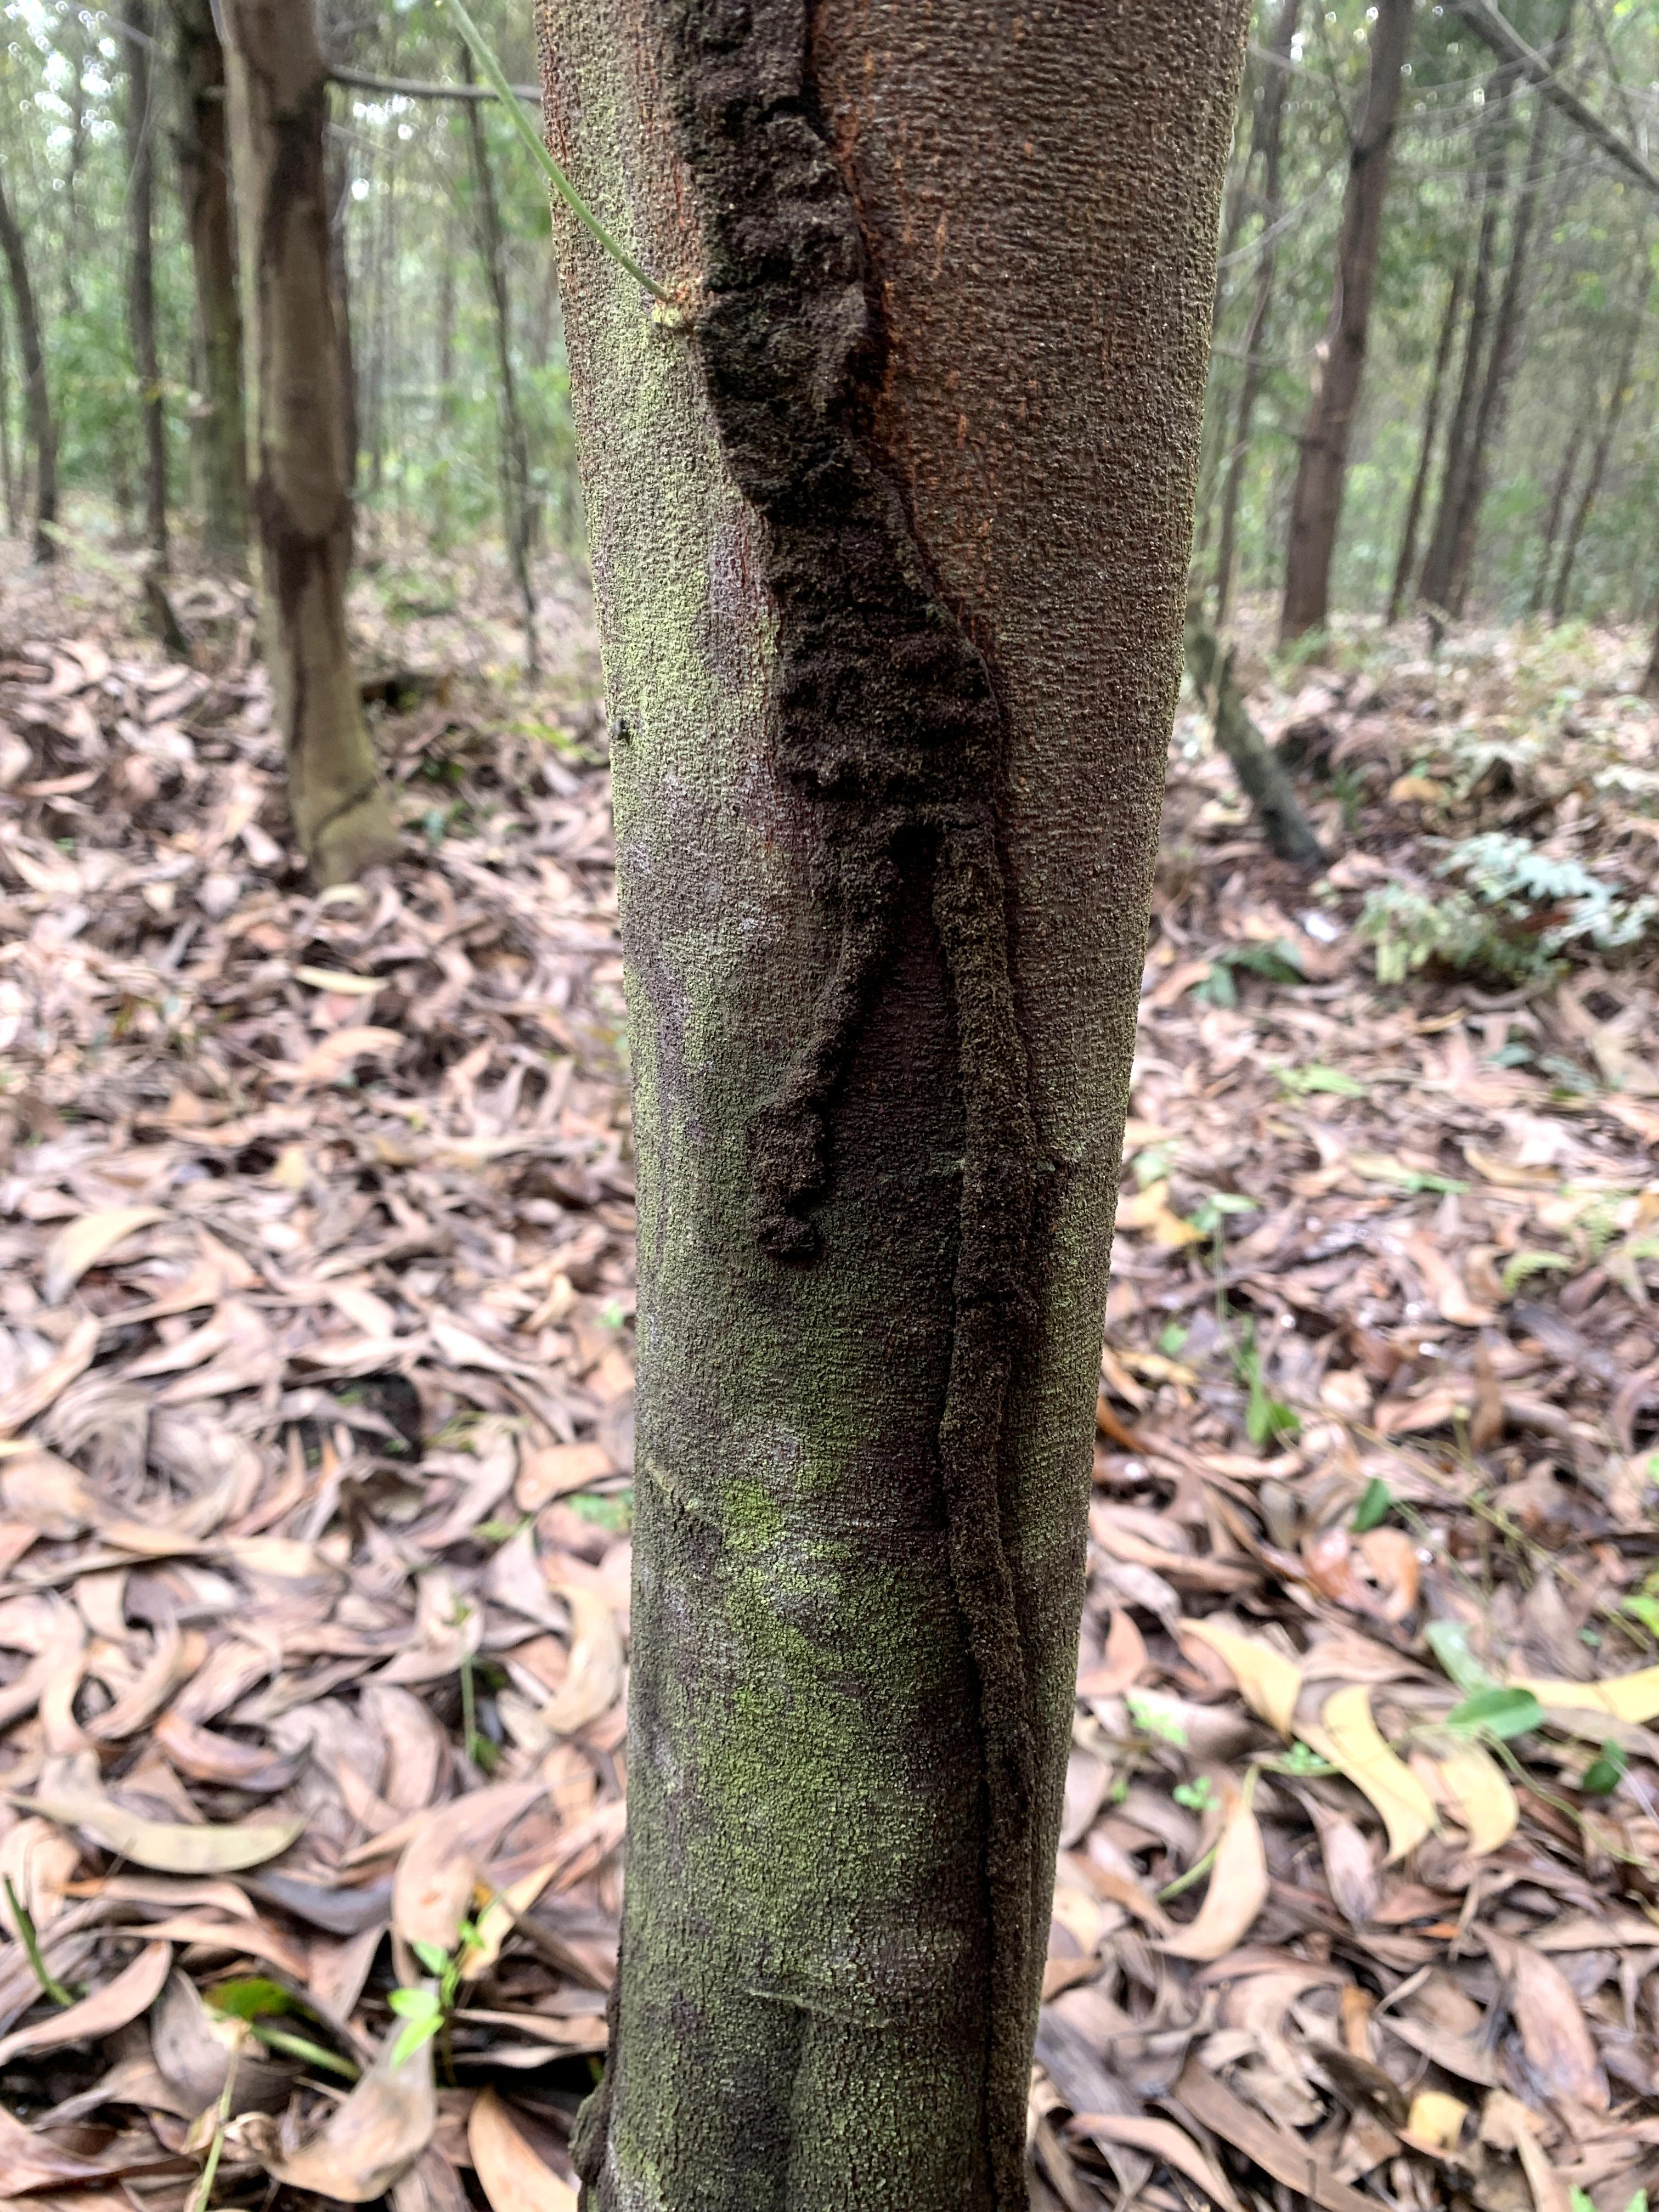Termite - Nest: (653, 56, 1039, 2123)
